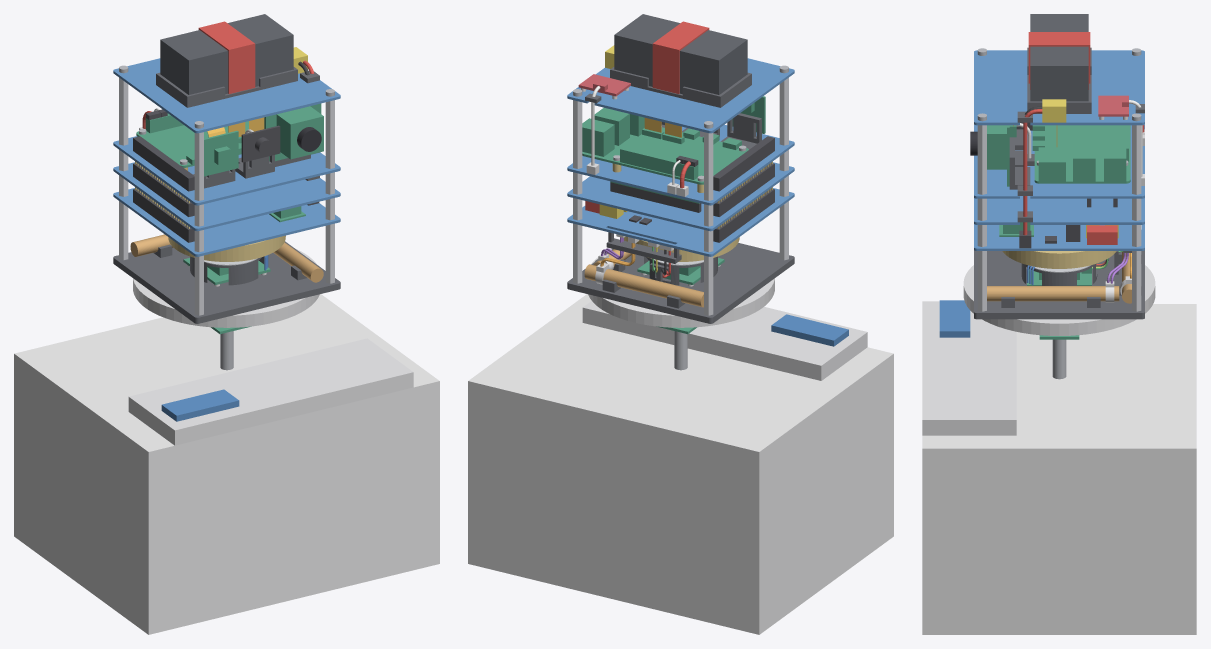
File: cubesat_v3.glb
The picture shows the model from 3 angles, left to right: view 1: azimuth 30°, elevation 25°; view 2: azimuth 150°, elevation 25°; view 3: azimuth 270°, elevation 25°; orthographic projection.
Parts seen in each view (by area): view 1: foam_base, breadboard, base_plate, batt_pack, L4_top, L2_avionics, L1_power, L3_payload, platform, batt_strap, raspberry_pi_5, cam_hq (+16 smaller); view 2: foam_base, breadboard, raspberry_pi_5, batt_pack, base_plate, L4_top, L1_power, L2_avionics, L3_payload, platform, batt_strap, mt_x (+15 smaller); view 3: foam_base, breadboard, L4_top, raspberry_pi_5, base_plate, batt_pack, L2_avionics, L3_payload, platform, L1_power, mt_y, rw_rim (+16 smaller).
Boxes of the visible parts, left/top/right/bottom form: foam_base: left=14, top=294, right=439, bottom=634; breadboard: left=128, top=338, right=413, bottom=445; base_plate: left=113, top=241, right=340, bottom=323; batt_pack: left=160, top=14, right=293, bottom=94; L4_top: left=113, top=58, right=340, bottom=133; L2_avionics: left=113, top=162, right=340, bottom=231; L1_power: left=113, top=188, right=340, bottom=256; L3_payload: left=113, top=136, right=340, bottom=205; platform: left=133, top=248, right=319, bottom=327; batt_strap: left=198, top=21, right=255, bottom=93; raspberry_pi_5: left=136, top=113, right=248, bottom=167; cam_hq: left=264, top=103, right=323, bottom=161; foam_base: left=468, top=294, right=893, bottom=634; breadboard: left=582, top=301, right=867, bottom=380; raspberry_pi_5: left=582, top=107, right=748, bottom=184; batt_pack: left=614, top=14, right=747, bottom=94; base_plate: left=567, top=243, right=794, bottom=323; L4_top: left=567, top=58, right=794, bottom=133; L1_power: left=567, top=188, right=794, bottom=256; L2_avionics: left=567, top=162, right=794, bottom=231; L3_payload: left=567, top=124, right=794, bottom=205; platform: left=588, top=249, right=774, bottom=327; batt_strap: left=652, top=21, right=709, bottom=93; mt_x: left=584, top=264, right=703, bottom=307; foam_base: left=922, top=304, right=1196, bottom=634; breadboard: left=922, top=301, right=1016, bottom=435; L4_top: left=974, top=50, right=1144, bottom=125; raspberry_pi_5: left=1032, top=125, right=1130, bottom=183; base_plate: left=974, top=250, right=1144, bottom=319; batt_pack: left=1030, top=14, right=1088, bottom=101; L2_avionics: left=974, top=196, right=1144, bottom=224; L3_payload: left=974, top=124, right=1144, bottom=198; platform: left=963, top=265, right=1155, bottom=335; L1_power: left=974, top=224, right=1144, bottom=250; mt_y: left=987, top=286, right=1119, bottom=301; rw_rim: left=1002, top=251, right=1116, bottom=268.
Bounding box in the file's own units: 0.2 × 0.3376 × 0.16.
